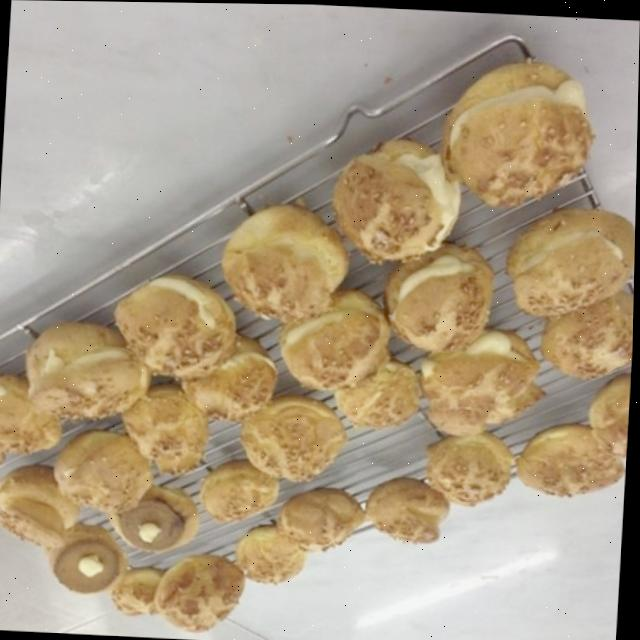炸货点心: (0, 21, 640, 640)
蛋糕甜品: (0, 21, 640, 640)
